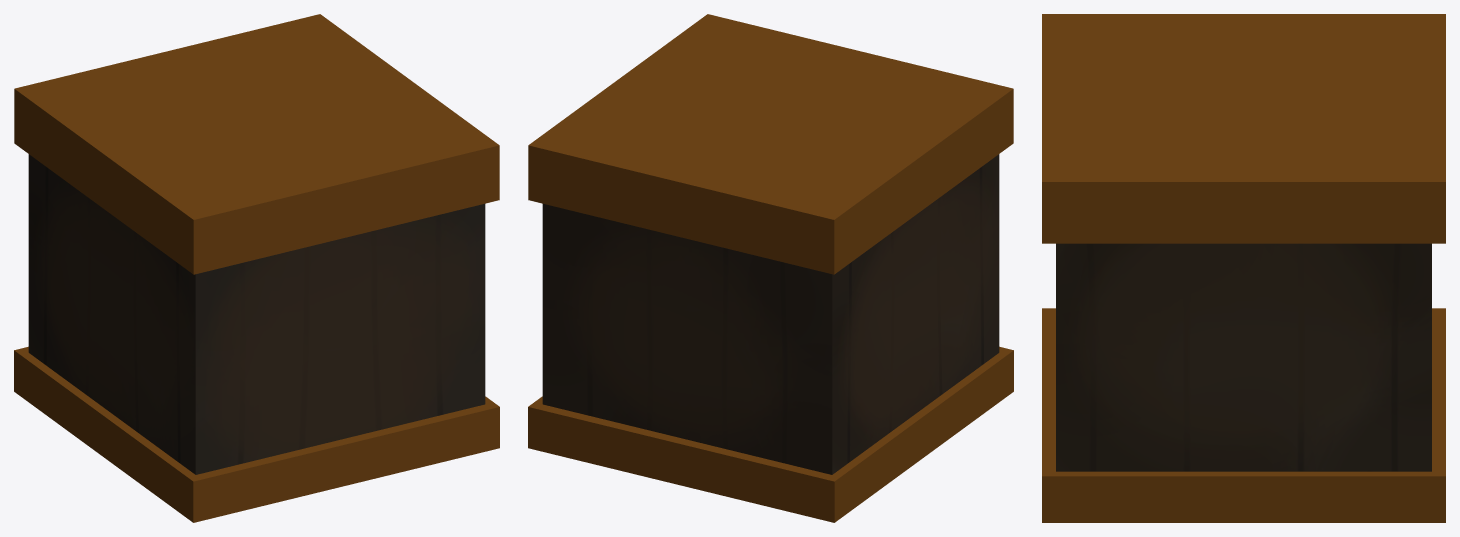
Rendered from SC_Box_Ana.fbx.
3 views of the same model, side by side, from view 1: azimuth 30°, elevation 25°; view 2: azimuth 150°, elevation 25°; view 3: azimuth 270°, elevation 25° (orthographic). The views are drawn at different scales.
Parts seen in each view (by area): view 1: SC_Box; view 2: SC_Box; view 3: SC_Box.
Boxes of the visible parts, x1,y1,x2,y2 form: SC_Box: [14, 14, 499, 522]; SC_Box: [528, 14, 1013, 522]; SC_Box: [1042, 14, 1445, 522].
Size of the model in its own units: 212 by 200 by 215.
